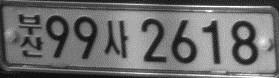1: (201, 20, 226, 64)
2: (140, 17, 167, 62)
6: (171, 19, 197, 63)
8: (230, 19, 259, 65)
9: (74, 15, 98, 59), (45, 14, 69, 57)
부산_V: (18, 13, 43, 57)
사: (104, 20, 129, 58)
